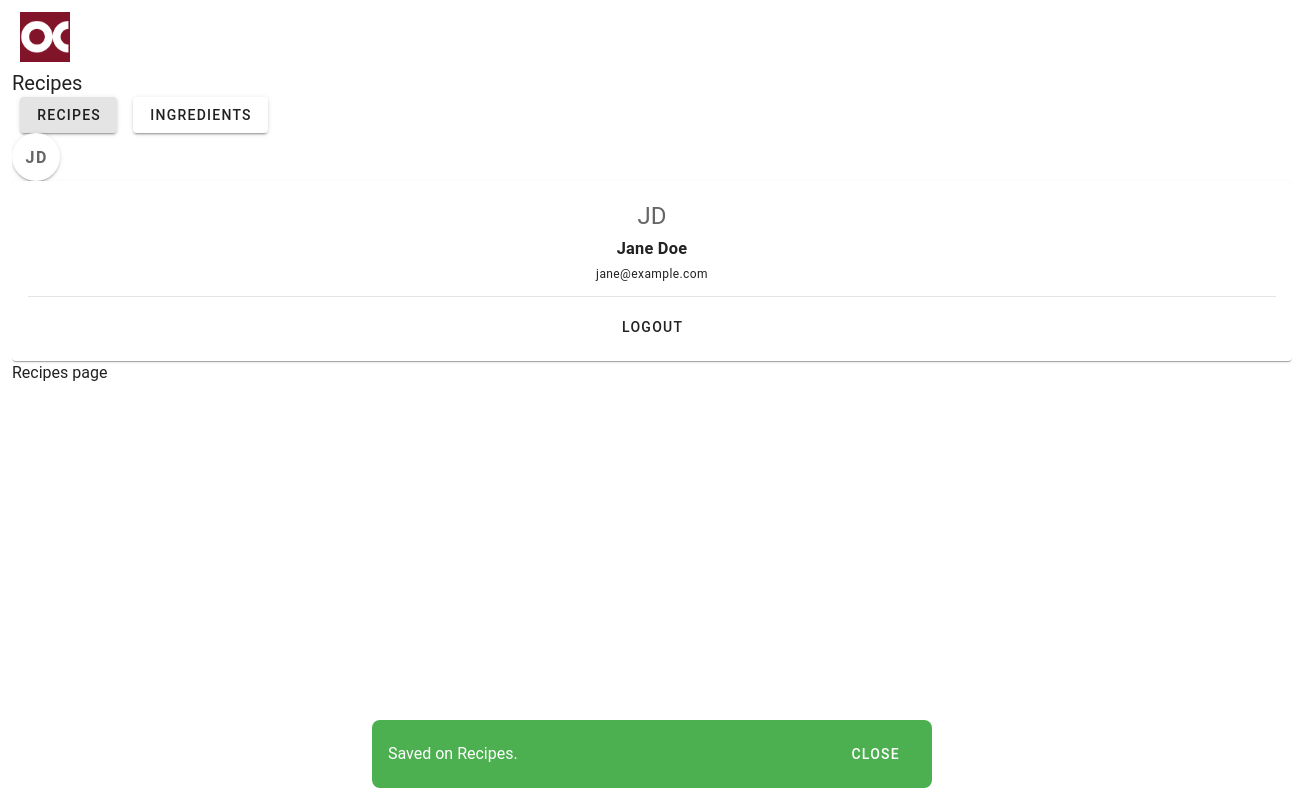
Test case: Feature 1 — Menu Bar & User Navigation › US-1.5 — See Reusable Success and Failure Notifications › The same notification can appear on more than one page
Expected: the element with test id "app-notifications" shows "Saved on Recipes.", [388,744,518,763]
Click the link "Ingredients".
click(200, 115)  # box [133,97,268,133]
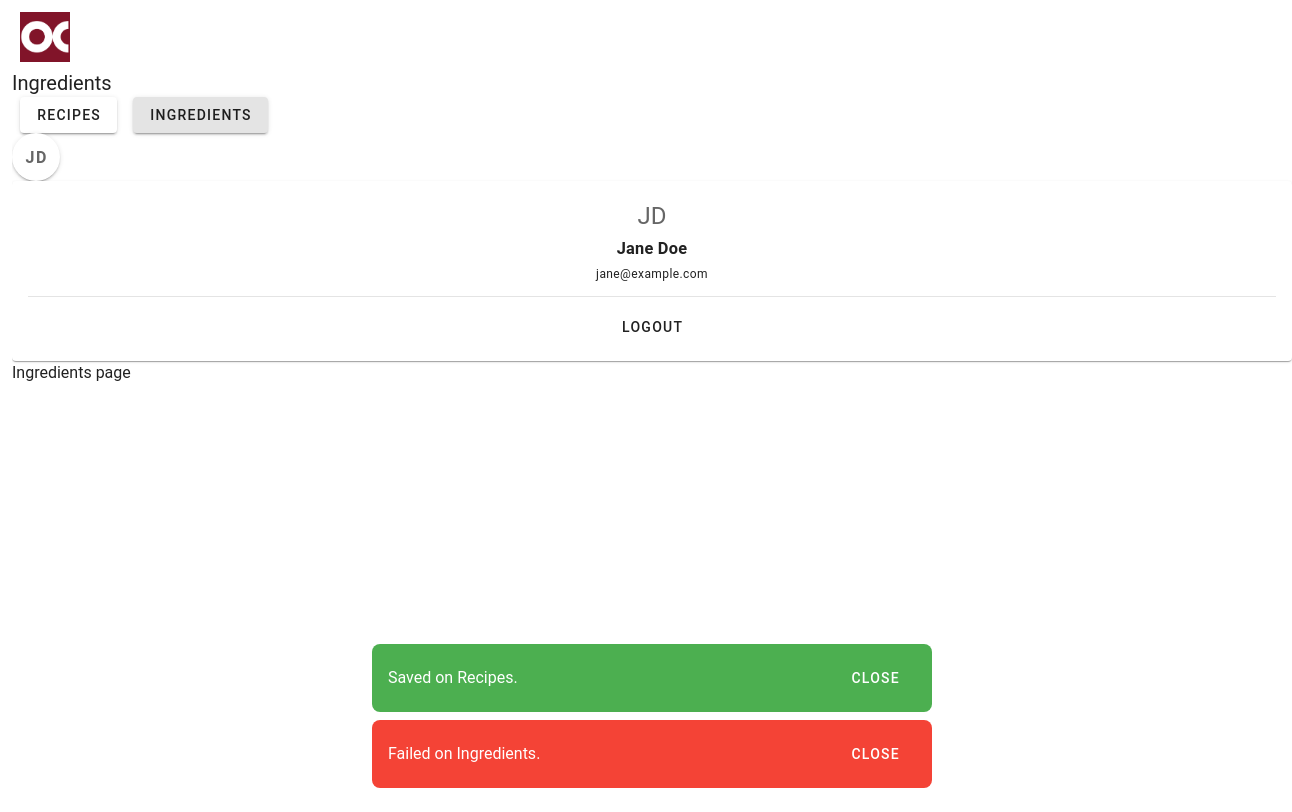
Result: the element with test id "app-notifications" shows "Failed on Ingredients." at [388,744,540,763]
Result: the text "Ingredients page" is shown at [12,363,131,382]
